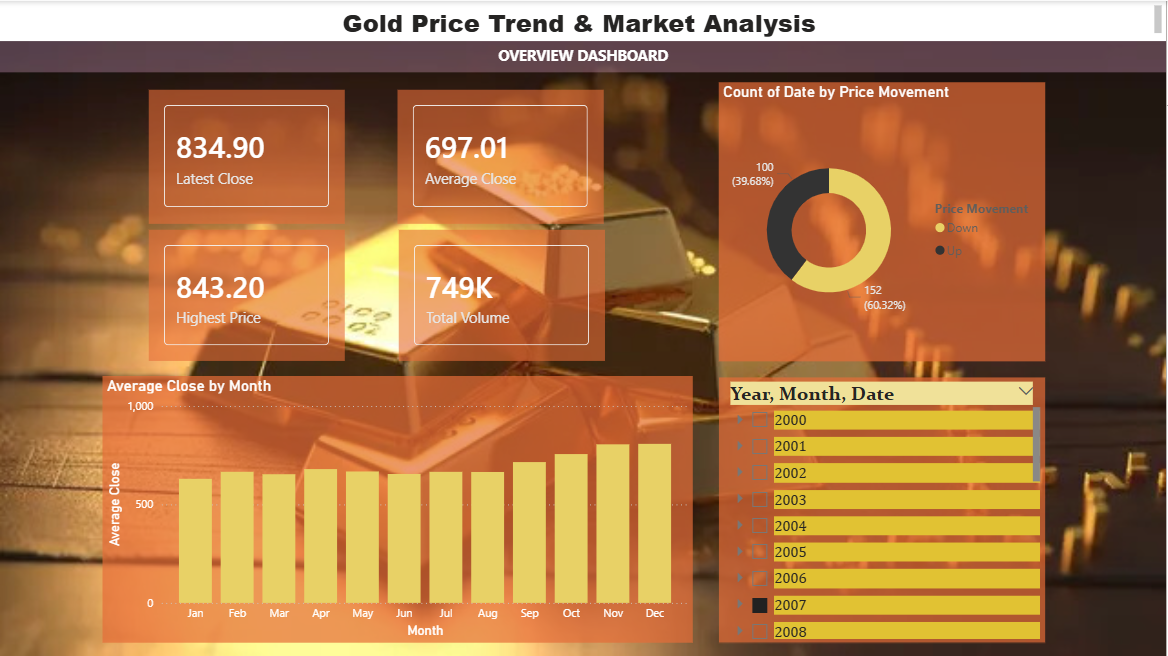

Layout of this report page (visuals, bound fields, positions):
{"tool":"powerbi","page":{"name":"Overview Dashboard","canvas":[1280,720],"ordinal":0},"visuals":[{"type":"cardVisual","fields":{"Data":["Date_Table.Latest Close"]},"box":[163.3,97.4,215.4,146.8],"z":0},{"type":"cardVisual","fields":{"Data":["Date_Table.Highest Price"]},"box":[163.3,251.1,215.4,144.1],"z":1000},{"type":"cardVisual","fields":{"Data":["Date_Table.Average Close"]},"box":[436.4,97.4,226.4,146.8],"z":2000},{"type":"cardVisual","fields":{"Data":["Date_Table.Total Volume"]},"box":[437.7,251.1,226.4,144.1],"z":3000},{"type":"donutChart","fields":{"Category":["gold_price_clean.Price Movement"],"Y":["CountNonNull(gold_price_clean.Date)"]},"box":[788.9,88.8,358.2,306.4],"z":4000},{"type":"clusteredColumnChart","fields":{"Category":["Date_Table.Month"],"Y":["Date_Table.Average Close"]},"box":[112.5,411.5,648.3,293.1],"z":5000},{"type":"slicer","fields":{"Values":["Date_Table.Year","Date_Table.Month","Date_Table.Date"]},"box":[788.9,413,358.2,291.6],"z":6000},{"type":"textbox","box":[0,43.9,1280.3,34.3],"z":7000},{"type":"textbox","box":[0,0,1280.3,43.9],"z":8000}]}

Visuals, with their boxes in screenshot pixels (x1, y1, x2, y2), scaled from the page's 1280x720 canvas onto the 1168x656 screenshot:
cardVisual - Date_Table.Latest Close: select_region(149, 89, 346, 222)
cardVisual - Date_Table.Highest Price: select_region(149, 229, 346, 360)
cardVisual - Date_Table.Average Close: select_region(398, 89, 605, 222)
cardVisual - Date_Table.Total Volume: select_region(399, 229, 606, 360)
donutChart - gold_price_clean.Price Movement x CountNonNull(gold_price_clean.Date): select_region(720, 81, 1047, 360)
clusteredColumnChart - Date_Table.Month x Date_Table.Average Close: select_region(103, 375, 694, 642)
slicer - Date_Table.Year x Date_Table.Month: select_region(720, 376, 1047, 642)
textbox: select_region(0, 40, 1167, 71)
textbox: select_region(0, 0, 1167, 40)
